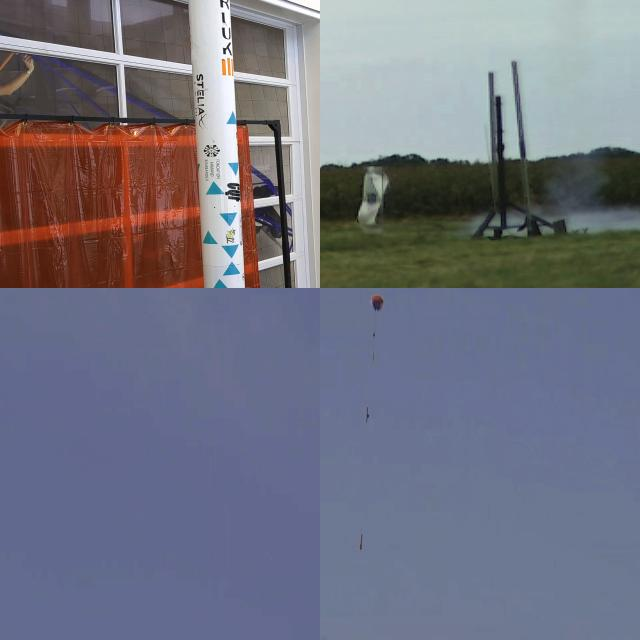Rocket: (188, 0, 245, 288), (359, 534, 363, 550)
